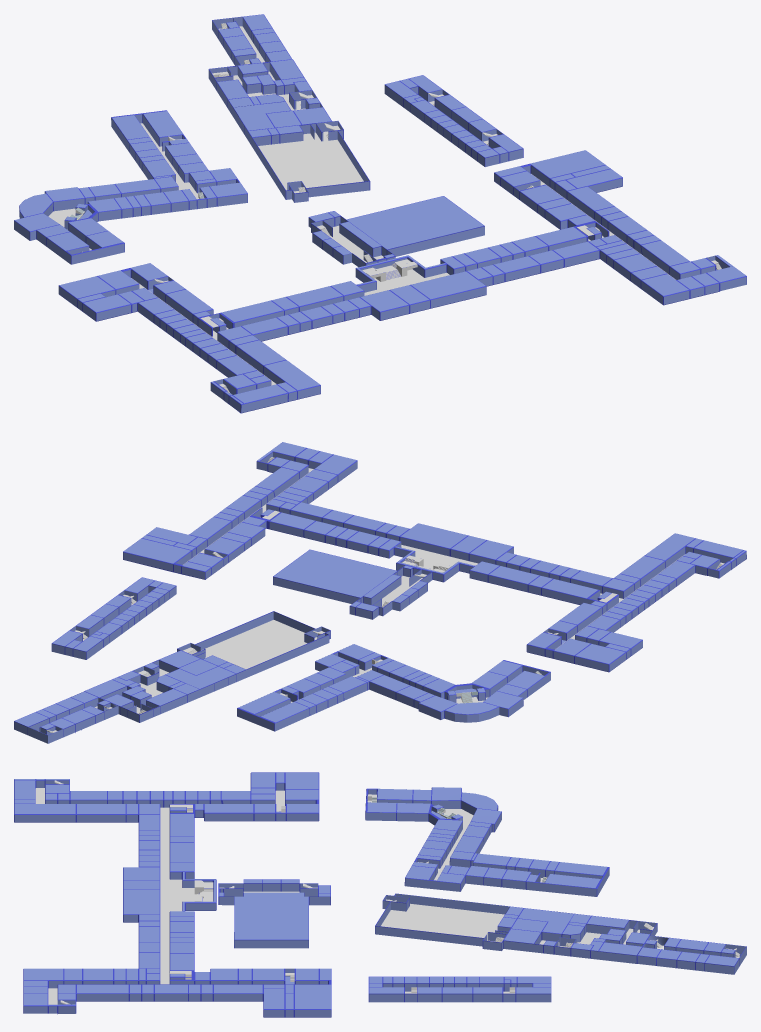
The model's file is dstu_3.glb.
3 views of the same model, one above another, from view 1: azimuth 30°, elevation 25°; view 2: azimuth 150°, elevation 25°; view 3: azimuth 270°, elevation 25° (orthographic). The views are drawn at different scales.
Visible parts, largest first — view 1: Plane.004, Plane.010, 7.3, K3, 3, 63, Plane.003; view 2: Plane.004, Plane.010, 7.3, K3, 3, 63; view 3: Plane.004, Plane.010, 7.3, K3, 3, 63.
Part boxes in pixels (bbox=[...]): Plane.004: bbox=[58, 150, 746, 413]; Plane.010: bbox=[14, 110, 247, 264]; 7.3: bbox=[208, 59, 370, 202]; K3: bbox=[308, 196, 484, 267]; 3: bbox=[384, 75, 523, 166]; 63: bbox=[212, 14, 291, 65]; Plane.003: bbox=[362, 259, 417, 281]; Plane.004: bbox=[123, 442, 746, 672]; Plane.010: bbox=[237, 644, 550, 731]; 7.3: bbox=[84, 611, 330, 722]; K3: bbox=[273, 549, 432, 619]; 3: bbox=[51, 577, 176, 659]; 63: bbox=[14, 691, 118, 743]; Plane.004: bbox=[14, 772, 331, 1017]; Plane.010: bbox=[365, 787, 609, 896]; 7.3: bbox=[375, 893, 657, 963]; K3: bbox=[218, 879, 330, 948]; 3: bbox=[368, 976, 551, 1002]; 63: bbox=[637, 935, 746, 974].
Bounding box in the file's own units: 180 × 5.66 × 235.
